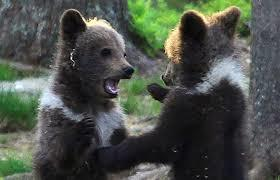bear: (35, 6, 268, 180)
